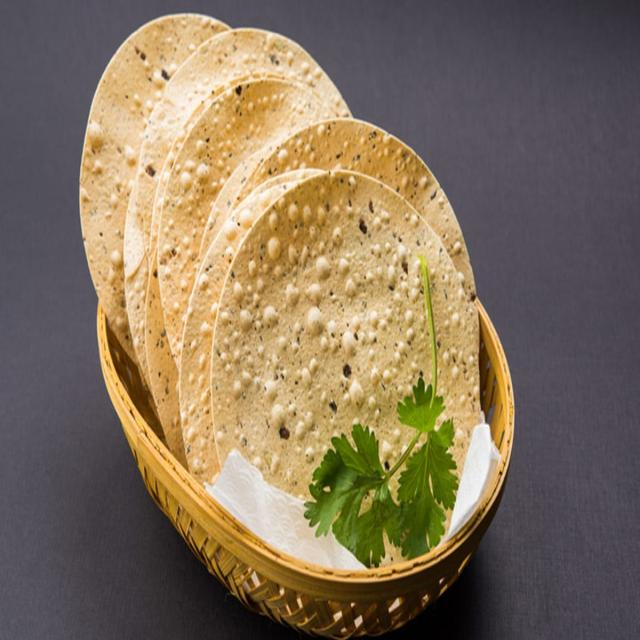papad: (219, 172, 485, 556), (145, 34, 362, 458), (258, 120, 484, 355), (164, 75, 339, 371), (173, 180, 340, 488), (85, 15, 244, 331), (201, 138, 303, 266)
